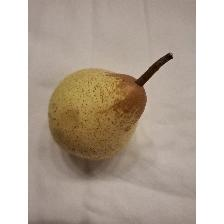Birne: (45, 48, 175, 164)
